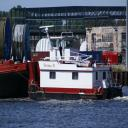tugboat: (28, 25, 125, 102)
